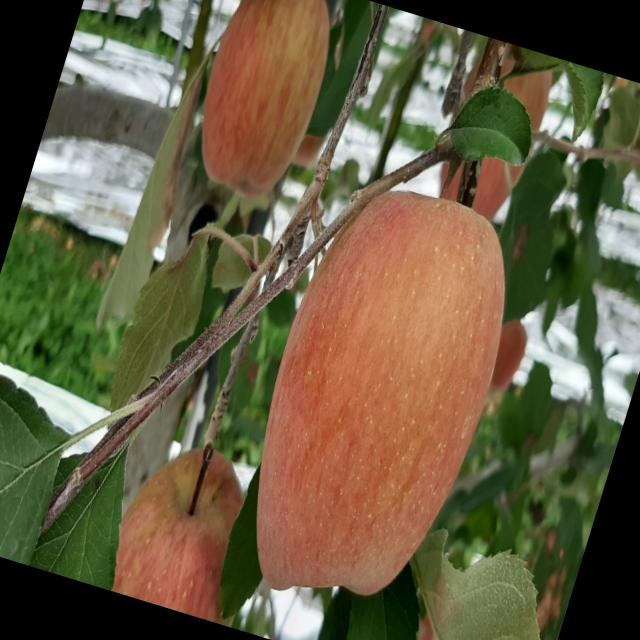fresh: (216, 151, 545, 640)
